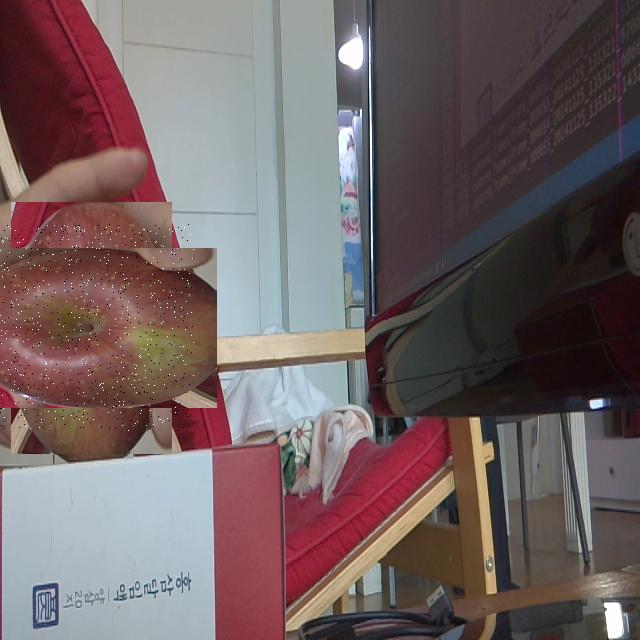apple: (0, 224, 194, 431)
